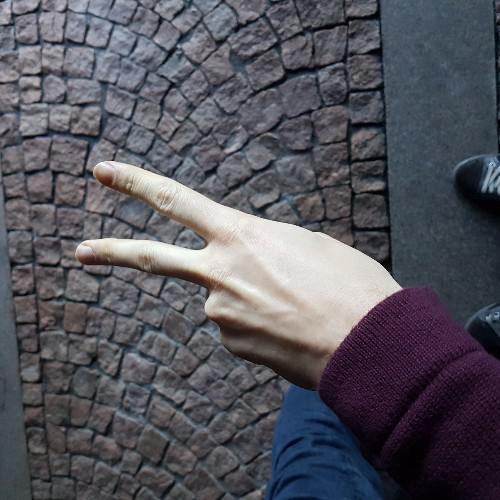scissors: (68, 154, 351, 381)
